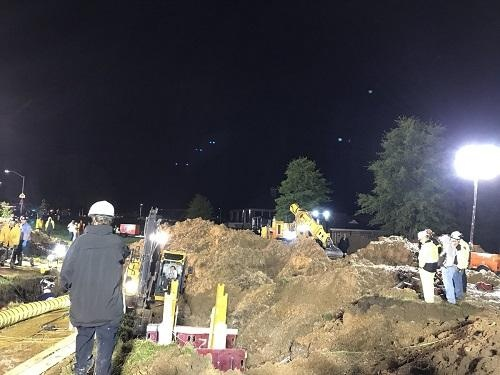white: (86, 199, 115, 227)
